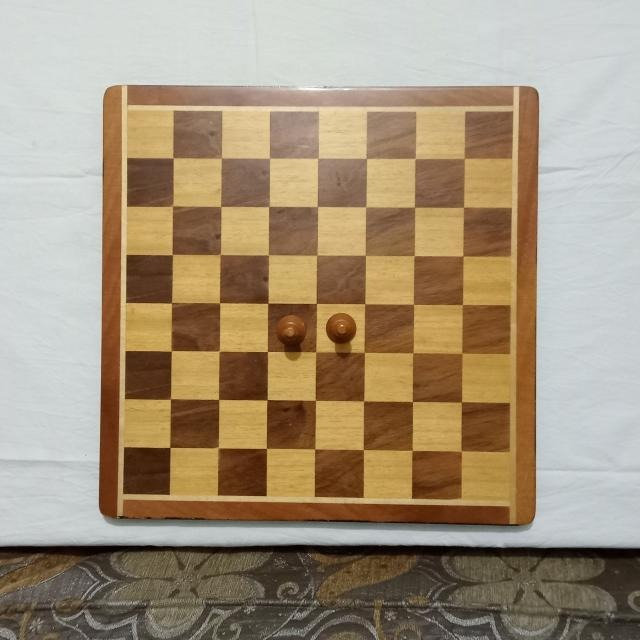white-pawn: (325, 311, 358, 344), (276, 313, 308, 347)
